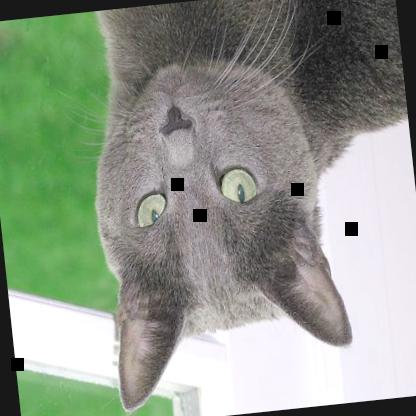cat: (76, 0, 415, 414)
